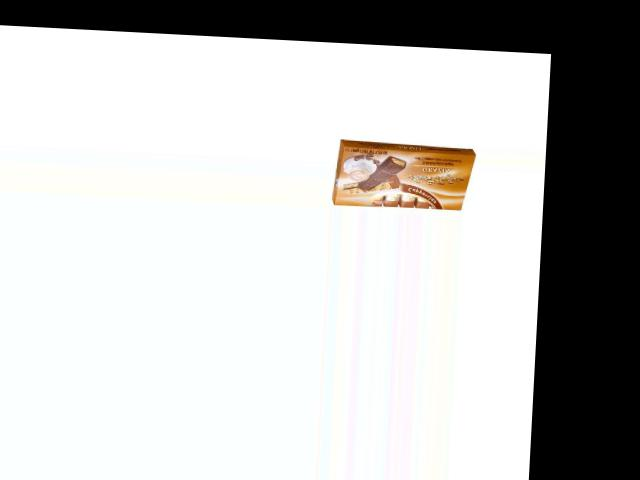chocolate: (331, 139, 479, 213)
